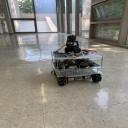cart: (52, 51, 104, 86)
